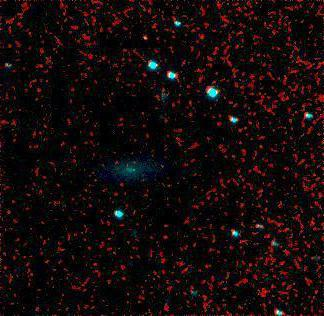star: (131, 21, 161, 51)
